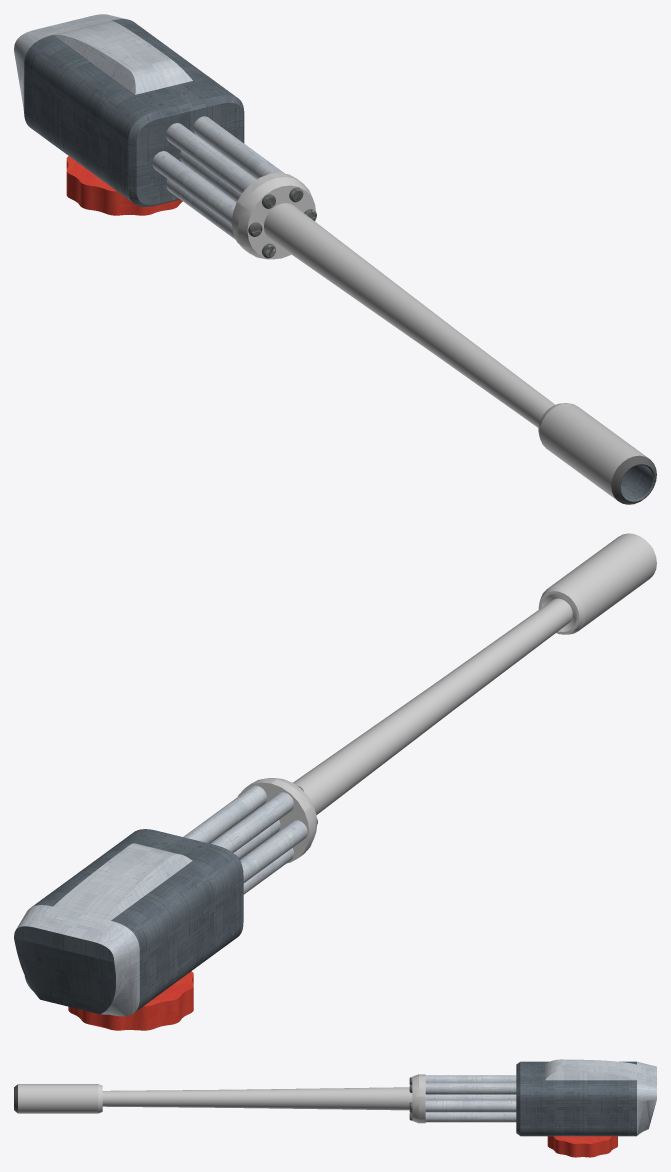
The model's file is 阿波罗炮[武器]贴图版.fbx.
3 renders of one model, top to bottom at view 1: azimuth 30°, elevation 25°; view 2: azimuth 150°, elevation 25°; view 3: azimuth 270°, elevation 25°, orthographic. The views are drawn at different scales.
Parts seen in each view (by area): view 1: Group9, Group8, Group5, Group7, Group2; view 2: Group9, Group8, Group5, Group7, Group2; view 3: Group9, Group8, Group5, Group7, Group2.
Boxes of the visible parts, x1,y1,x2,y2 form: Group9: (14,14,244,206); Group8: (264,203,555,427); Group5: (152,116,316,259); Group7: (538,403,656,504); Group2: (66,156,182,215); Group9: (14,829,243,1016); Group8: (293,598,572,814); Group5: (183,778,317,894); Group7: (538,533,656,634); Group2: (68,971,193,1030); Group9: (516,1059,656,1136); Group8: (102,1087,412,1110); Group5: (409,1074,516,1123); Group7: (14,1084,102,1113); Group2: (547,1136,617,1157).
Bounding box in the file's own units: 0.999 × 1.14 × 8.58.
